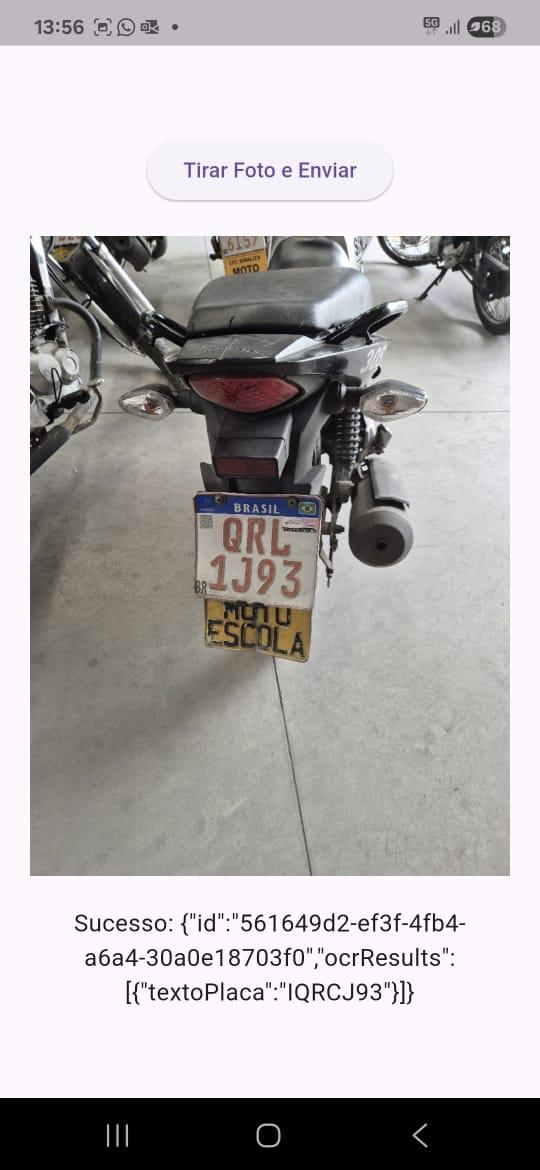placa_mercosul: (193, 493, 323, 610)
